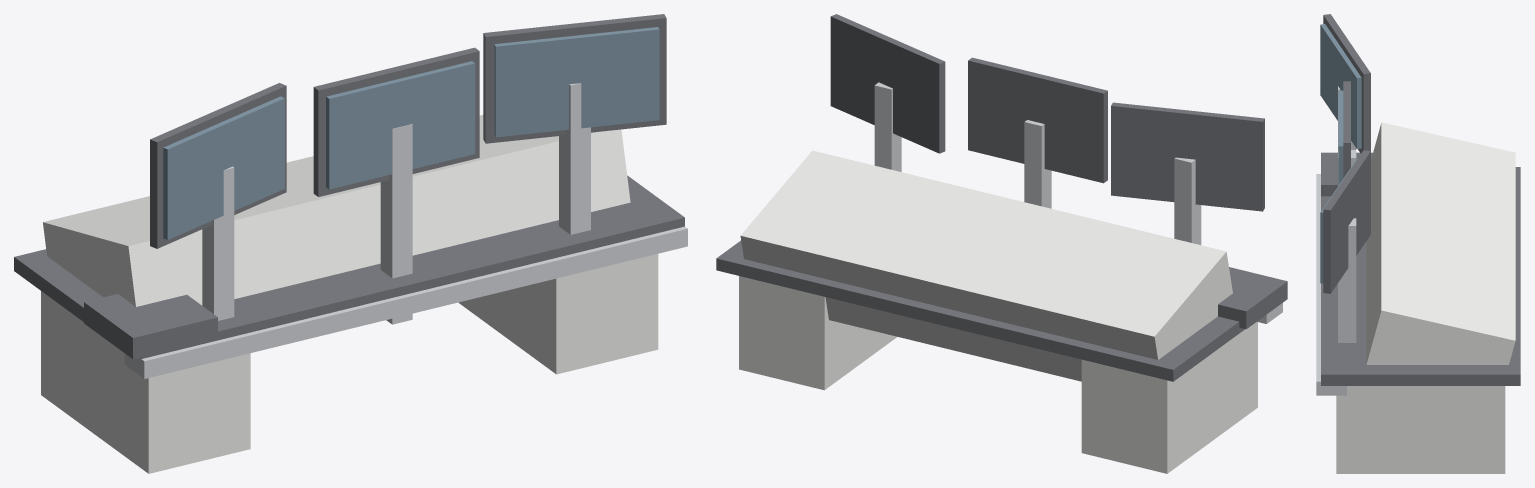
Rendered from rocket-launch-pad-and-gantry-firing-room-console-cbd18240__38206.glb.
3 renders of one model, left to right at view 1: azimuth 30°, elevation 25°; view 2: azimuth 150°, elevation 25°; view 3: azimuth 270°, elevation 25°, orthographic. The views are drawn at different scales.
Parts seen in each view (by area): view 1: firing-room-console; view 2: firing-room-console; view 3: firing-room-console.
Part boxes in pixels (<box>): firing-room-console: <box>14,14,687,473</box>; firing-room-console: <box>716,14,1287,473</box>; firing-room-console: <box>1316,14,1520,473</box>.
Bounding box in the file's own units: 3.25 × 1.9 × 1.33.
